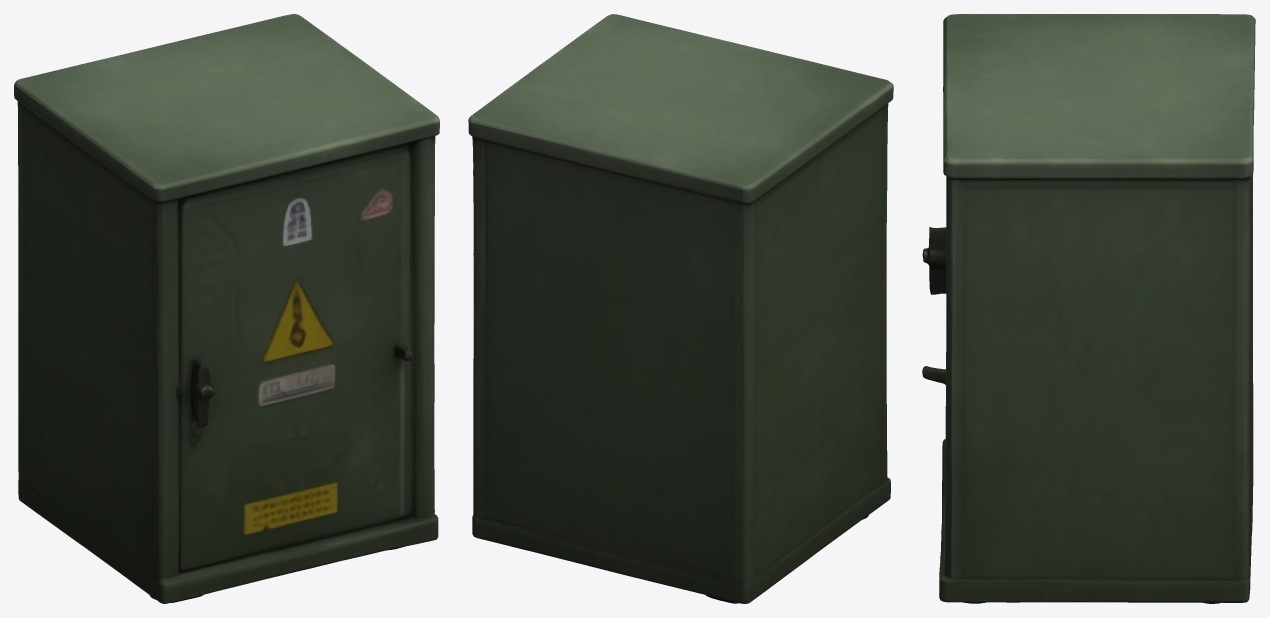
Rendered from electric_box.glb.
3 renders of one model, left to right at view 1: azimuth 30°, elevation 25°; view 2: azimuth 150°, elevation 25°; view 3: azimuth 270°, elevation 25°, orthographic. The views are drawn at different scales.
Parts seen in each view (by area): view 1: geometry_0; view 2: geometry_0; view 3: geometry_0.
Part boxes in pixels (box(x1,y1,x2,y2)): geometry_0: box(14, 14, 439, 603); geometry_0: box(468, 14, 893, 603); geometry_0: box(922, 14, 1255, 603).
Bounding box in the file's own units: 0.7023 × 0.9996 × 0.6671.
1 material, 1 textured.
